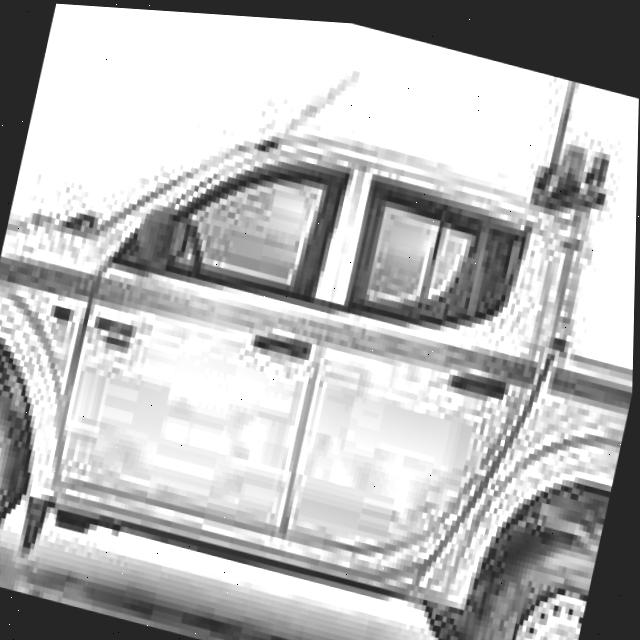light_vehicle: (0, 6, 640, 640)
